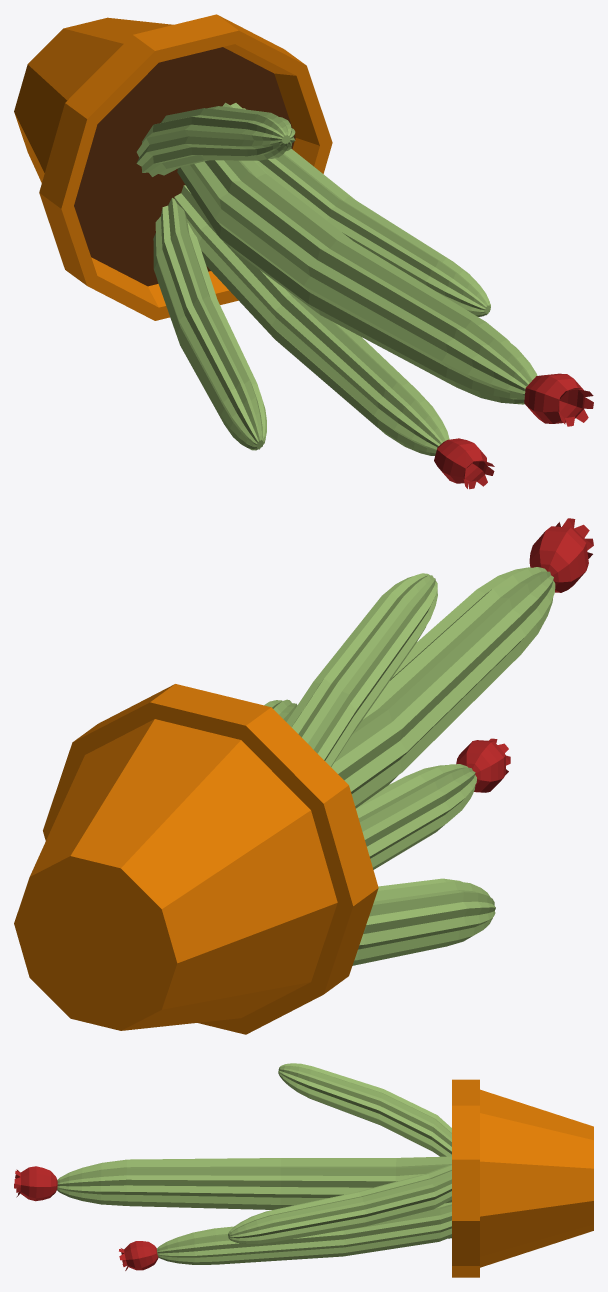
3 renders of one model, top to bottom at view 1: azimuth 30°, elevation 25°; view 2: azimuth 150°, elevation 25°; view 3: azimuth 270°, elevation 25°, orthographic. The views are drawn at different scales.
Visible parts, largest first — view 1: potted flowering cactus plant; view 2: potted flowering cactus plant; view 3: potted flowering cactus plant.
Part boxes in pixels (left/top/right/bottom): potted flowering cactus plant: left=14, top=14, right=593, bottom=489; potted flowering cactus plant: left=14, top=518, right=593, bottom=1034; potted flowering cactus plant: left=14, top=1063, right=593, bottom=1277.
Size of the model in its own units: 11.08 by 12.08 by 32.22.
